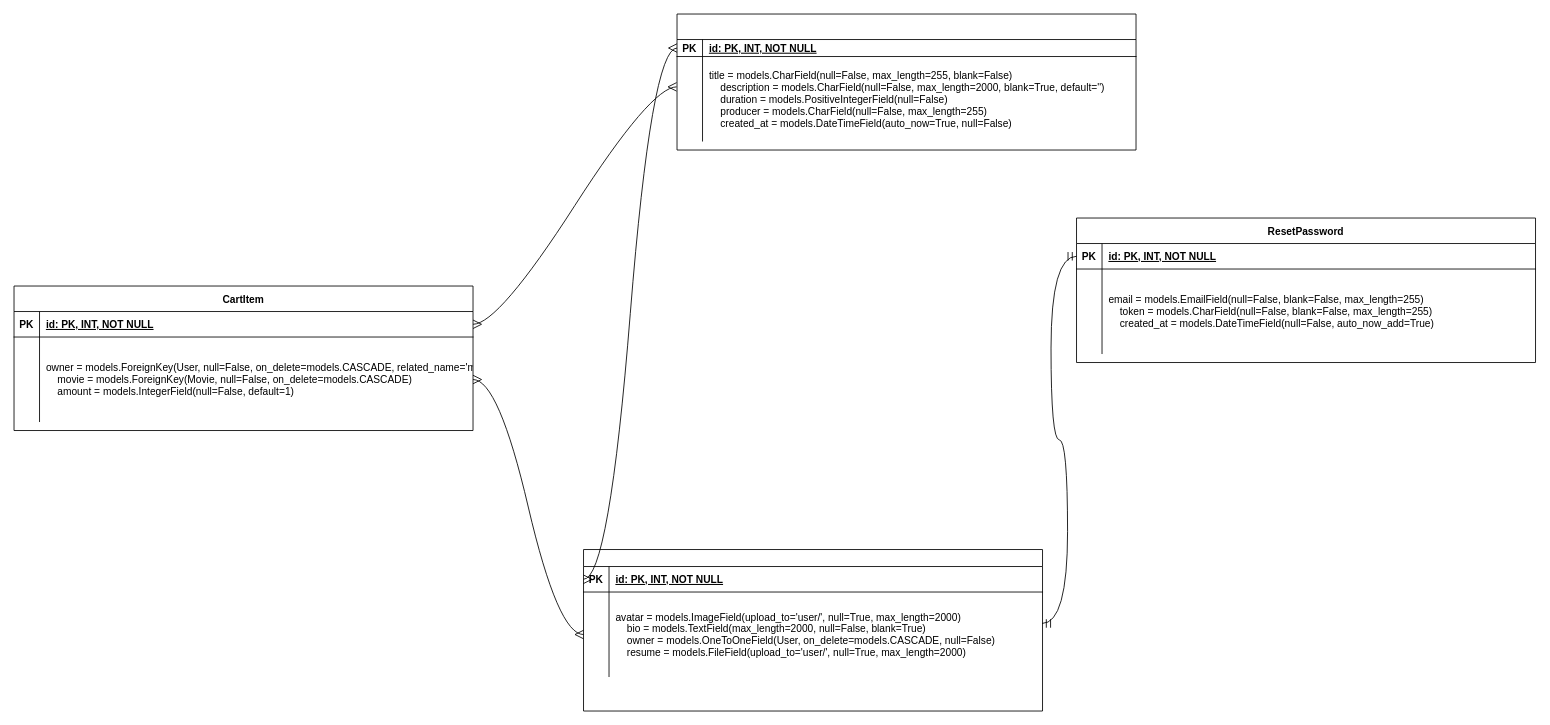
Some shapes in this 1550 by 725 pixel diagram are drawn without their labels. The shapes that lost their labels are listed below. From the top down, each one's box as (x1, y1, x2, y2) in pixels, then its label:
(676, 13, 1136, 150): Movie
(583, 549, 1043, 711): Profile
